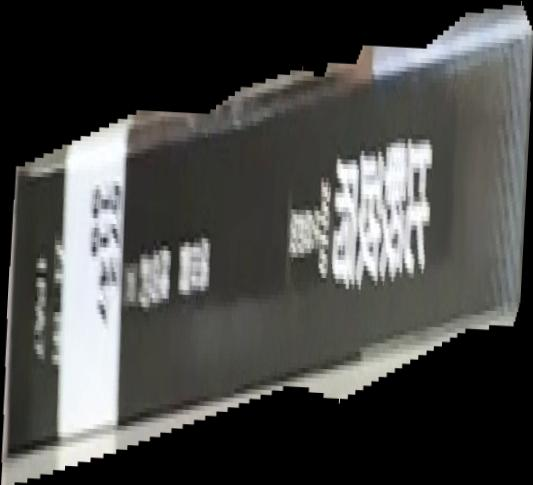flat: (1, 1, 533, 485)
